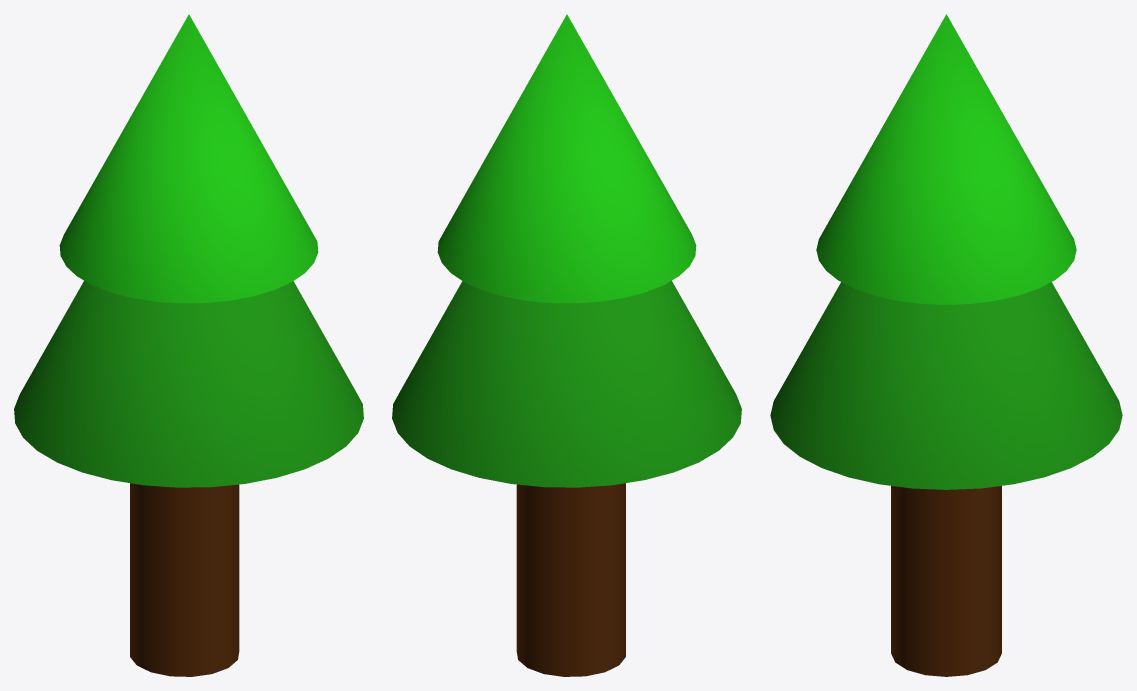
File: tree 3.fbx
3 views of the same model, side by side, from view 1: azimuth 30°, elevation 25°; view 2: azimuth 150°, elevation 25°; view 3: azimuth 270°, elevation 25° (orthographic).
Parts seen in each view (by area): view 1: tree 3; view 2: tree 3; view 3: tree 3.
Boxes of the visible parts, x1,y1,x2,y2 form: tree 3: (14,14,363,676); tree 3: (392,14,741,676); tree 3: (770,14,1122,676).
Bounding box in the file's own units: 175 × 352 × 175.
